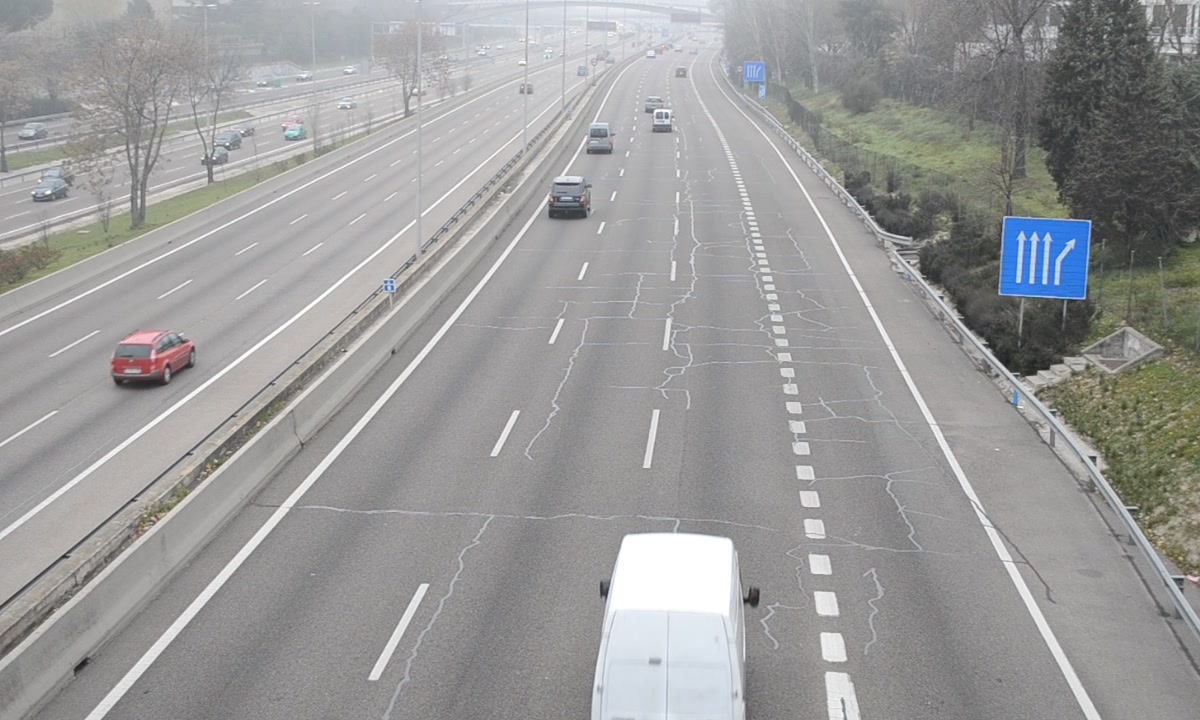car: (548, 176, 588, 217)
van: (590, 531, 748, 720), (587, 121, 612, 154)
